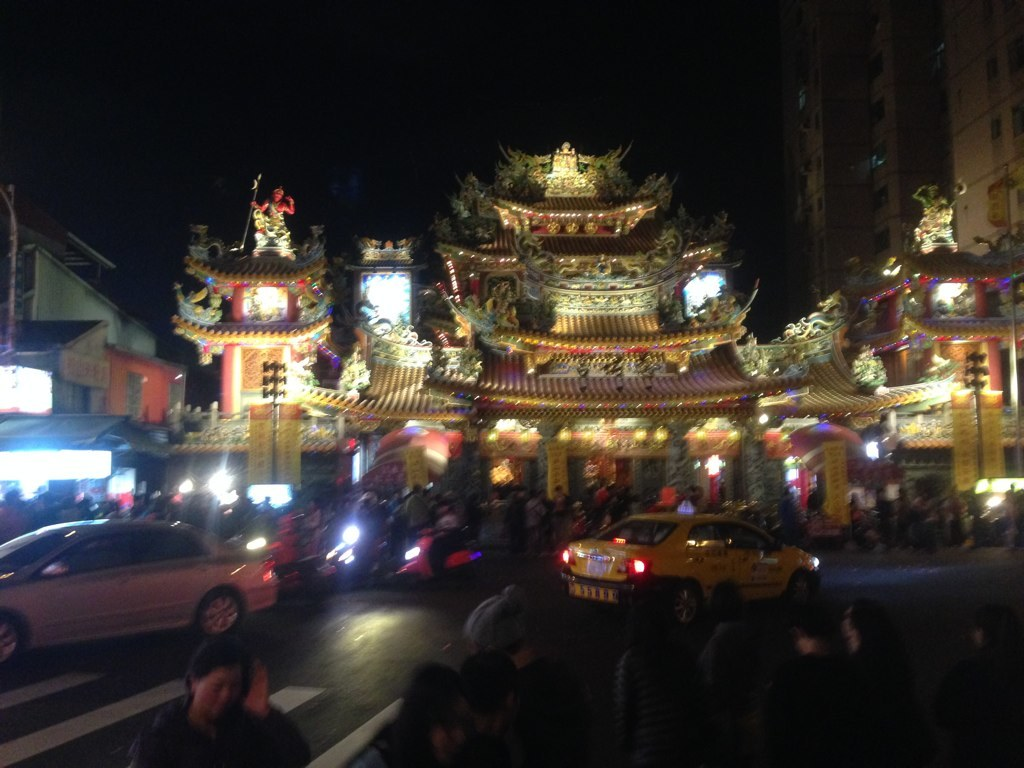cars: (0, 513, 282, 663), (541, 509, 833, 624)
